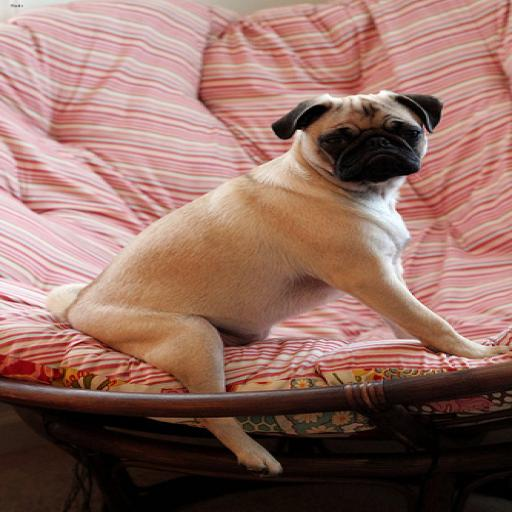dog_face: (273, 91, 451, 187)
